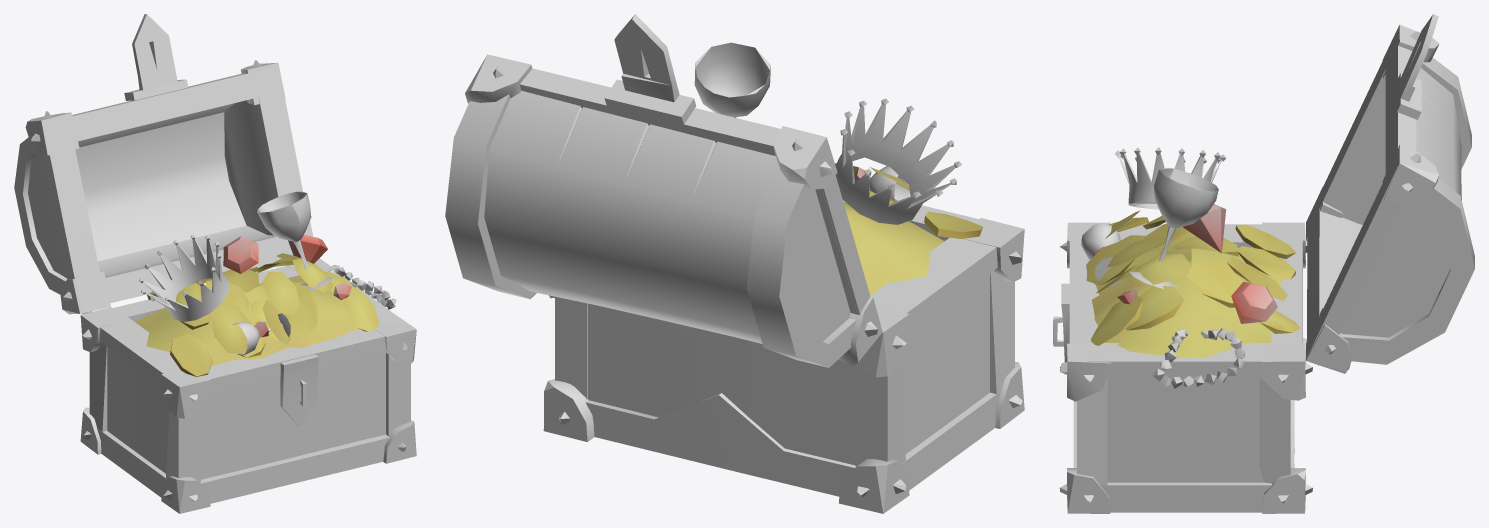
The model's file is treasure.glb.
The picture shows the model from 3 angles, left to right: view 1: azimuth 30°, elevation 25°; view 2: azimuth 150°, elevation 25°; view 3: azimuth 270°, elevation 25°; orthographic projection. The views are drawn at different scales.
Parts seen in each view (by area): view 1: treasure.001, treasure, treasure.004, treasure.002, pSphere21_lambert2_0, treasure.003; view 2: treasure.001, treasure, pSphere21_lambert2_0, treasure.004, treasure.002; view 3: treasure, treasure.001, treasure.004, treasure.002, pSphere21_lambert2_0, treasure.003.
Boxes of the visible parts, x1,y1,x2,y2 form: treasure.001: (14, 14, 313, 314); treasure: (80, 258, 416, 513); treasure.004: (135, 253, 379, 376); treasure.002: (223, 191, 351, 355); pSphere21_lambert2_0: (139, 234, 229, 321); treasure.003: (328, 265, 396, 309); treasure.001: (445, 14, 882, 367); treasure: (543, 200, 1024, 513); pSphere21_lambert2_0: (835, 98, 961, 224); treasure.004: (835, 163, 982, 295); treasure.002: (694, 42, 909, 200); treasure: (1053, 222, 1312, 513); treasure.001: (1306, 14, 1474, 373); treasure.004: (1081, 210, 1300, 358); treasure.002: (1081, 168, 1277, 323); pSphere21_lambert2_0: (1114, 147, 1225, 209); treasure.003: (1153, 328, 1245, 388).
Bounding box in the file's own units: 2.82 × 3.67 × 3.26.
